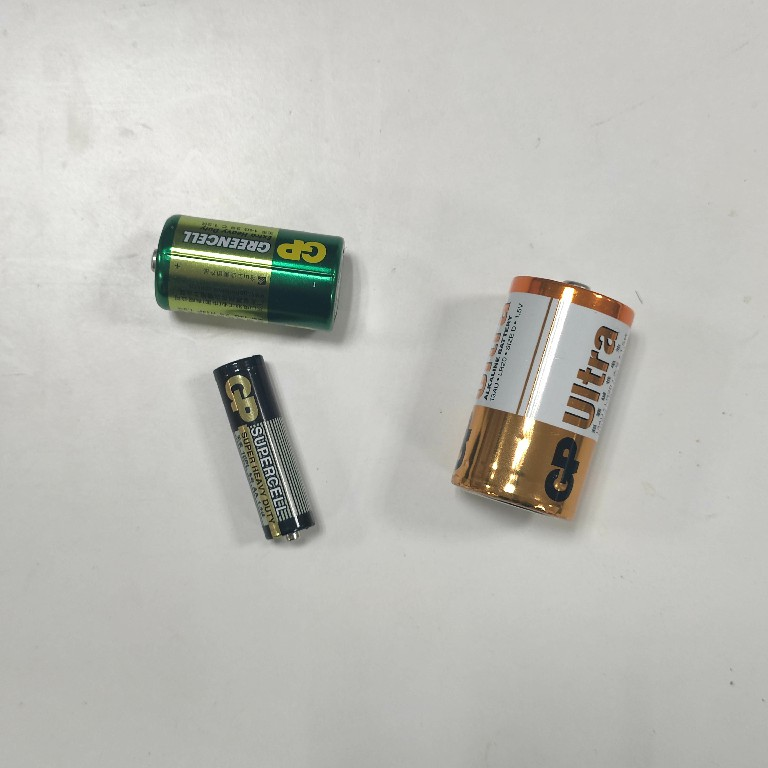charge: (445, 268, 638, 528), (148, 211, 353, 339), (211, 350, 320, 547)
